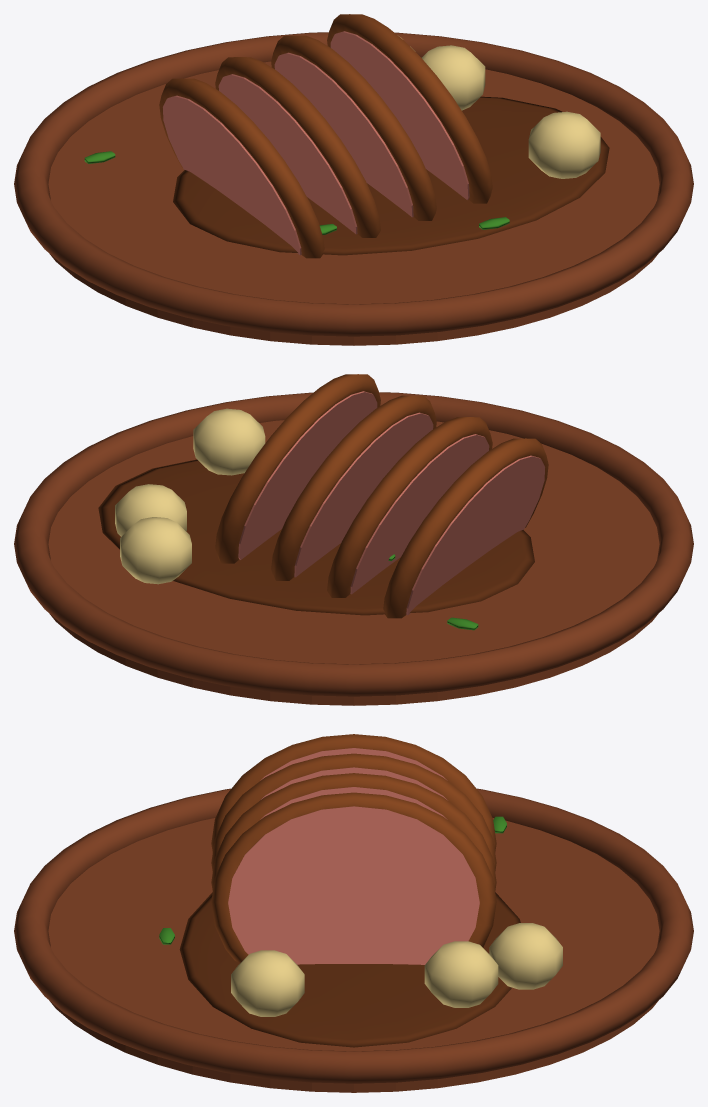
File: rinderbraten.glb
The picture shows the model from 3 angles, top to bottom: view 1: azimuth 30°, elevation 25°; view 2: azimuth 150°, elevation 25°; view 3: azimuth 270°, elevation 25°; orthographic projection.
Parts seen in each view (by area): view 1: Cylinder, Torus, Sphere, Cylinder.001, Cylinder.004, Cylinder.003, Cylinder.002, Torus.004, Torus.003, Torus.001, Torus.002, Sphere.002 (+1 smaller); view 2: Cylinder, Torus, Sphere, Cylinder.001, Cylinder.004, Cylinder.003, Cylinder.002, Torus.004, Torus.003, Torus.001, Torus.002, Sphere.003 (+2 smaller); view 3: Cylinder, Torus, Cylinder.004, Sphere, Torus.004, Torus.001, Torus.003, Torus.002, Sphere.001, Sphere.002, Sphere.003, Cylinder.001 (+2 smaller).
Part boxes in pixels (bbox=[...]): Cylinder: bbox=[48, 61, 659, 345]; Torus: bbox=[14, 32, 693, 336]; Sphere: bbox=[173, 96, 609, 255]; Cylinder.001: bbox=[163, 95, 301, 255]; Cylinder.004: bbox=[330, 31, 469, 199]; Cylinder.003: bbox=[274, 52, 413, 217]; Cylinder.002: bbox=[218, 74, 357, 234]; Torus.004: bbox=[327, 14, 492, 203]; Torus.003: bbox=[271, 35, 436, 220]; Torus.001: bbox=[159, 78, 324, 258]; Torus.002: bbox=[215, 57, 380, 237]; Sphere.002: bbox=[528, 111, 600, 178]; Cylinder: bbox=[48, 420, 659, 705]; Torus: bbox=[14, 392, 693, 696]; Sphere: bbox=[98, 459, 534, 615]; Cylinder.001: bbox=[406, 455, 544, 615]; Cylinder.004: bbox=[238, 391, 377, 559]; Cylinder.003: bbox=[294, 412, 433, 577]; Cylinder.002: bbox=[350, 434, 489, 594]; Torus.004: bbox=[215, 374, 380, 563]; Torus.003: bbox=[271, 395, 436, 580]; Torus.001: bbox=[383, 438, 548, 618]; Torus.002: bbox=[327, 417, 492, 597]; Sphere.003: bbox=[120, 517, 191, 584]; Cylinder: bbox=[48, 818, 659, 1092]; Torus: bbox=[14, 788, 693, 1083]; Cylinder.004: bbox=[228, 806, 479, 964]; Sphere: bbox=[179, 892, 520, 1047]; Torus.004: bbox=[211, 792, 496, 962]; Torus.001: bbox=[211, 734, 496, 852]; Torus.003: bbox=[211, 773, 496, 891]; Torus.002: bbox=[211, 753, 496, 871]; Sphere.001: bbox=[424, 941, 498, 1007]; Sphere.002: bbox=[231, 950, 304, 1016]; Sphere.003: bbox=[489, 923, 562, 989]; Cylinder.001: bbox=[260, 748, 447, 780].
Size of the model in its own units: 0.316 by 0.1078 by 0.316.
